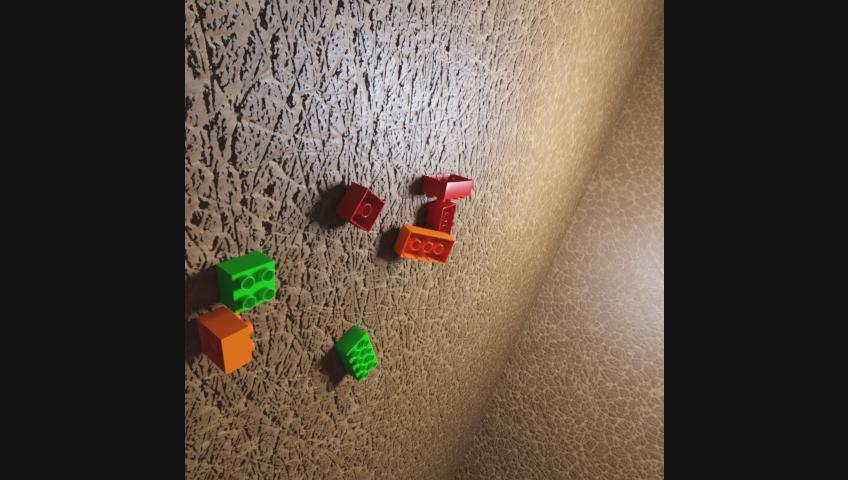2x2_green: (216, 250, 275, 313)
2x2_orange: (196, 306, 255, 373)
2x2_red: (334, 181, 385, 232)
4x2_green: (334, 325, 377, 380)
4x2_orange: (393, 224, 455, 262)
4x2_red: (421, 172, 474, 200), (424, 200, 457, 235)
